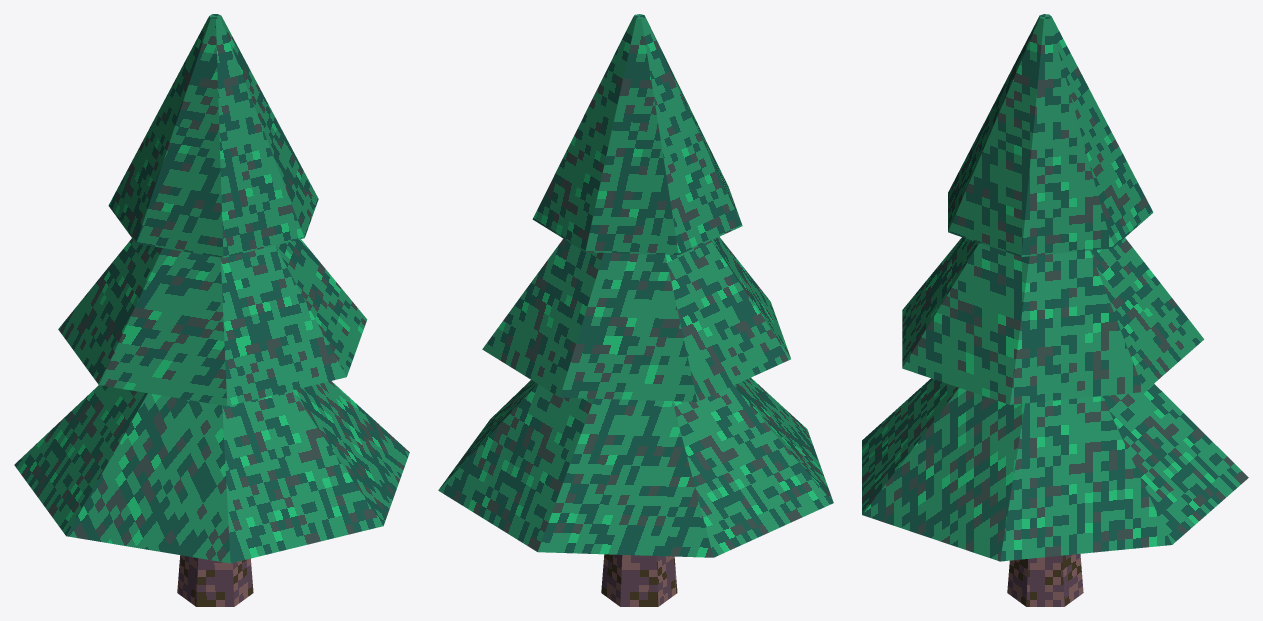
Rendered from r01_arvore_2.glb.
3 renders of one model, left to right at view 1: azimuth 30°, elevation 25°; view 2: azimuth 150°, elevation 25°; view 3: azimuth 270°, elevation 25°, orthographic.
Parts seen in each view (by area): view 1: r01_arvore_2; view 2: r01_arvore_2; view 3: r01_arvore_2.
Boxes of the visible parts, x1=… form: r01_arvore_2: x1=14, y1=14, x2=409, y2=606; r01_arvore_2: x1=438, y1=14, x2=833, y2=606; r01_arvore_2: x1=862, y1=14, x2=1248, y2=606.
Bounding box in the file's own units: 3.12 × 5 × 3.04.
2 materials, 2 textured.
